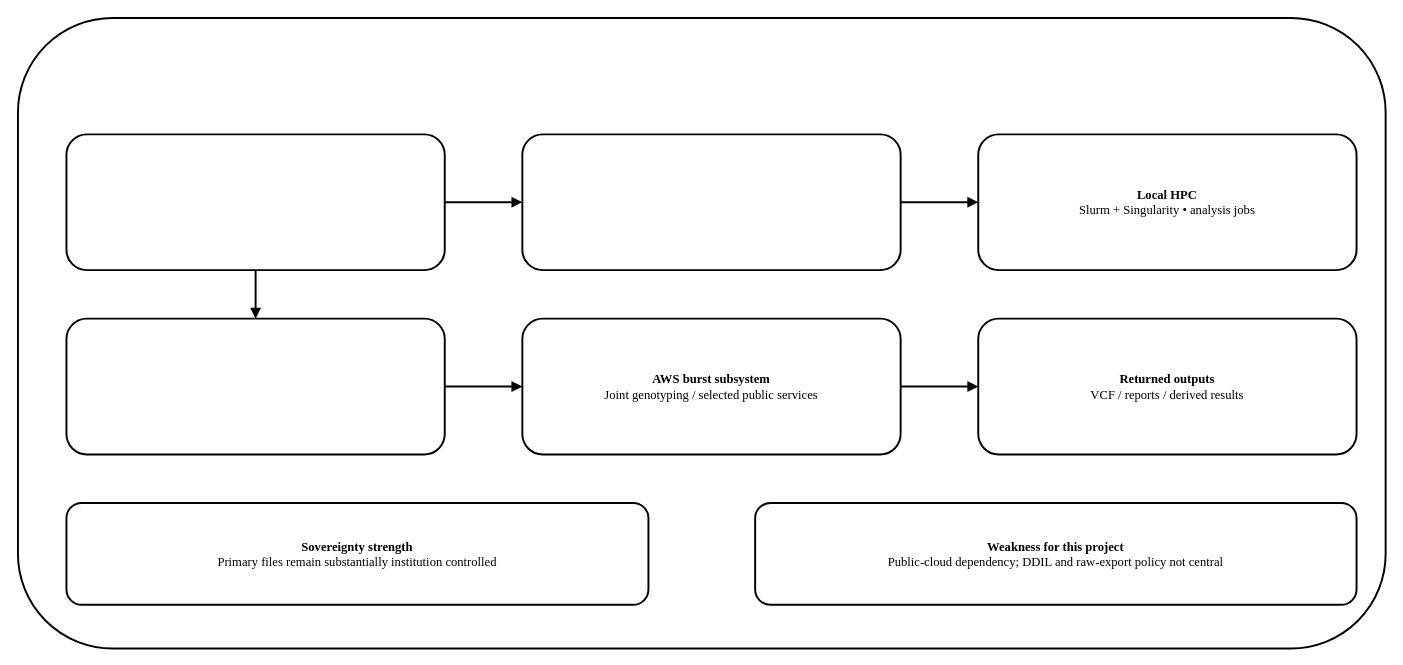
This 1403x665 diagram has some shape labels left out. The shapes that lost their labels are listed below. From the top down, each one's box as (x1, y1, x2, y2) in pixels, then its label:
(65, 133, 445, 271): Institution access Researchers / institutional accounts
(521, 133, 901, 271): Local genomic store GPFS / NAS • raw and working data
(65, 317, 445, 455): Academic network SINET • site-to-cloud connectivity
